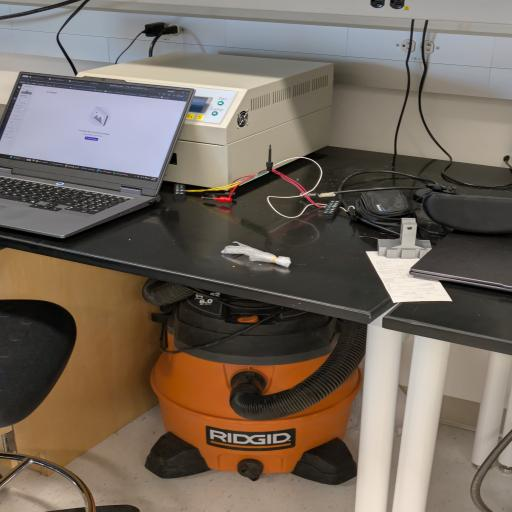rubberband: (220, 239, 295, 270)
